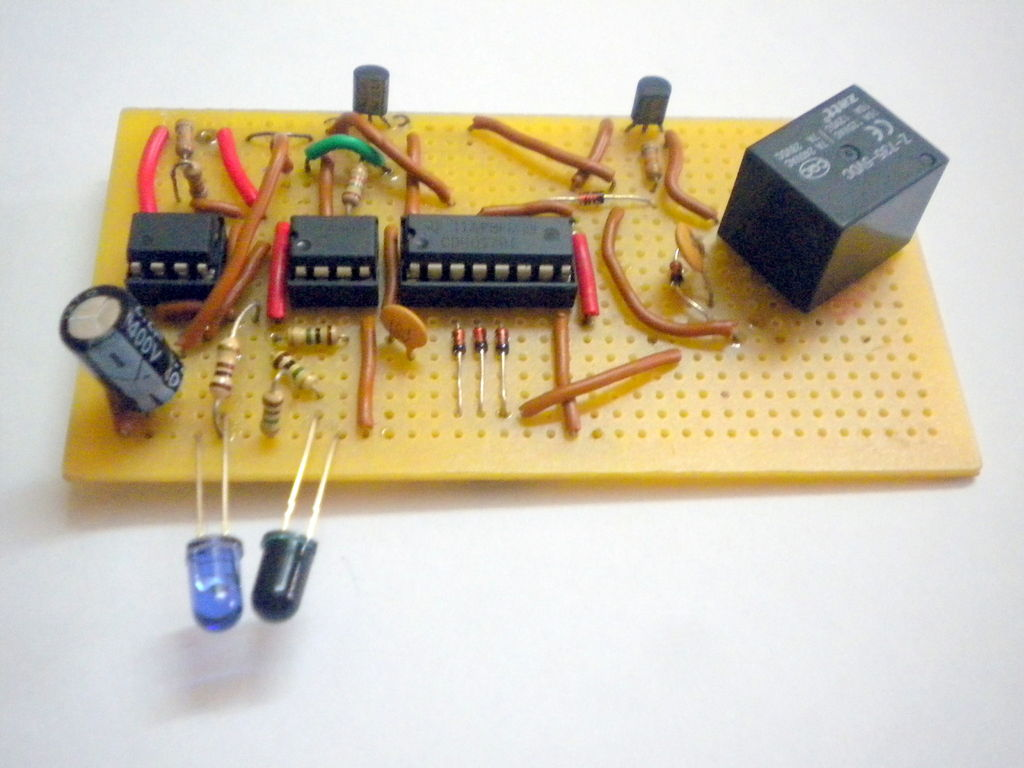capacitor: (59, 285, 182, 414)
resistor: (272, 350, 323, 395), (210, 335, 240, 402), (284, 323, 341, 351), (341, 161, 370, 206), (181, 162, 210, 203), (259, 388, 282, 435), (640, 141, 663, 180), (174, 119, 195, 156)
